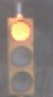Red: (6, 10, 33, 97)
